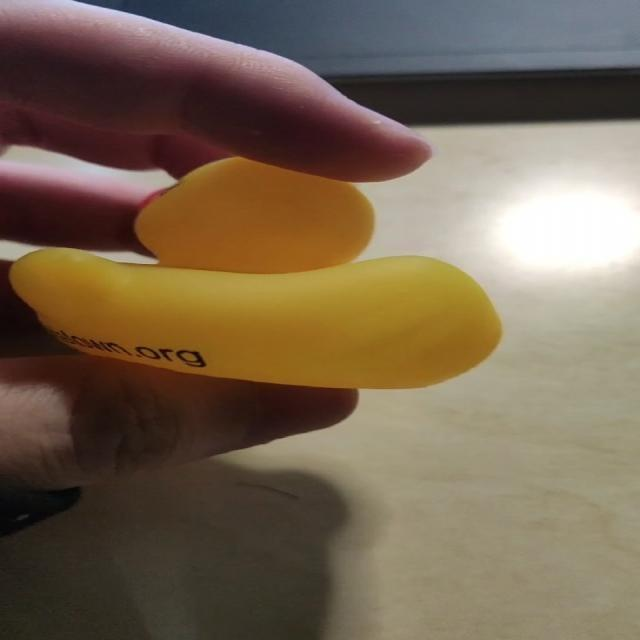rubber-duck: (9, 156, 499, 386)
